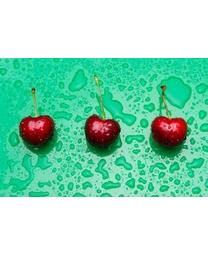cherry: (84, 114, 121, 150), (18, 114, 55, 148), (150, 115, 187, 148)
